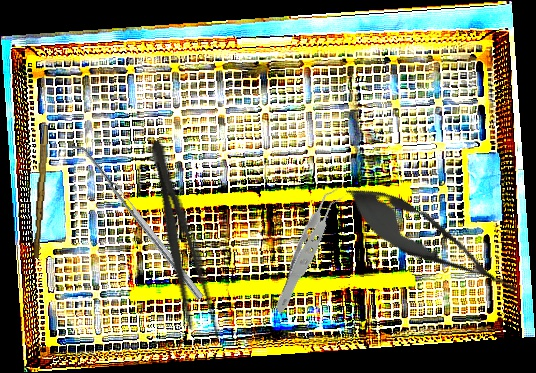Dressing Forceps: (139, 136, 225, 347)
Micro Scissor: (333, 171, 532, 314)
Scalpel Handle: (32, 124, 49, 259)
Spatula Surgical: (67, 135, 204, 306)
Tissue Forceps: (238, 182, 384, 316)
